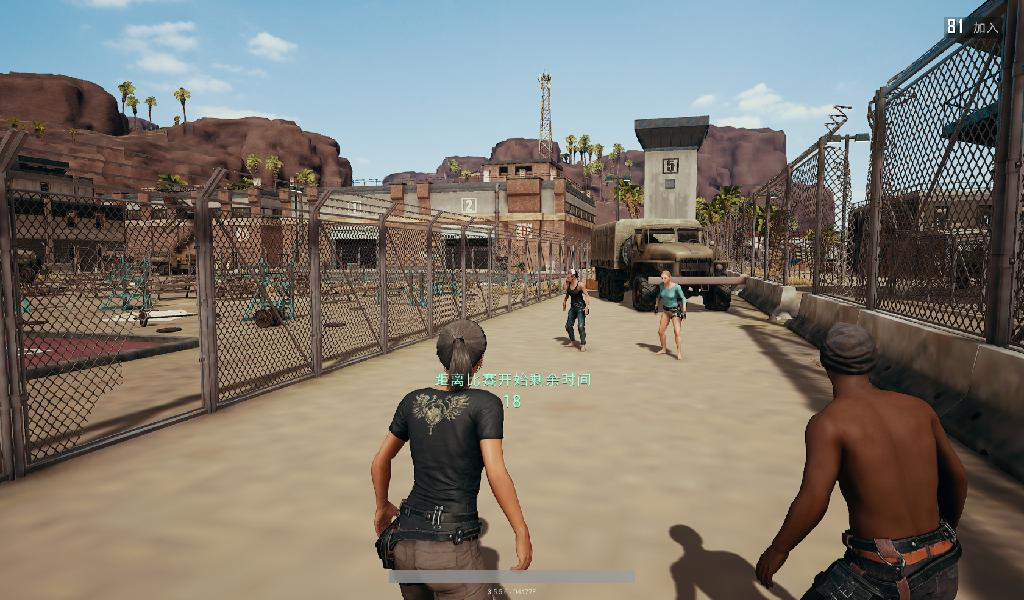Target Person: (758, 322, 971, 600), (368, 317, 536, 600), (652, 269, 686, 362), (560, 270, 590, 356)
